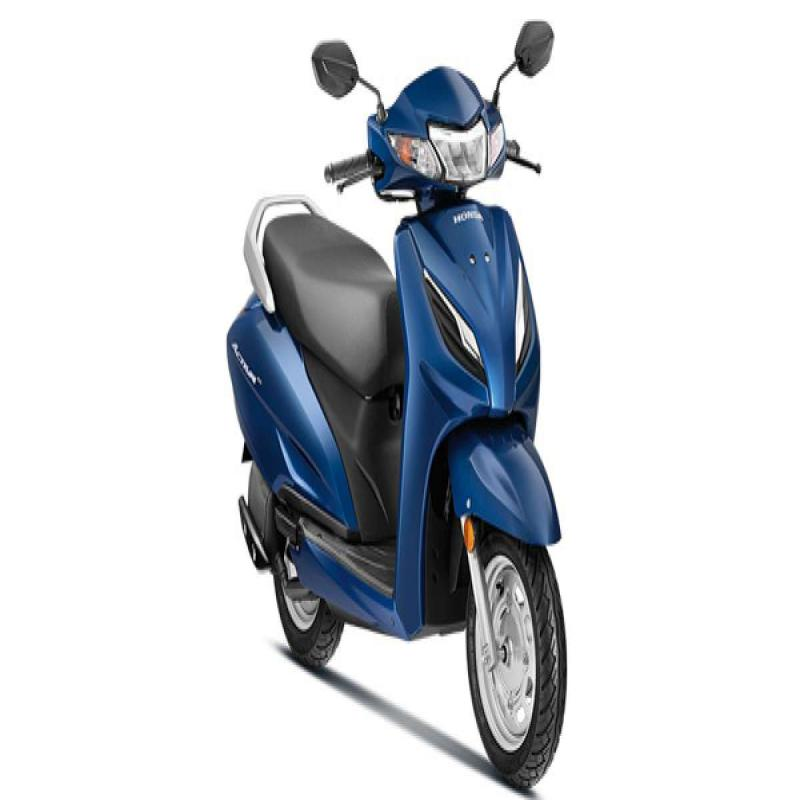bike: (209, 12, 585, 789)
